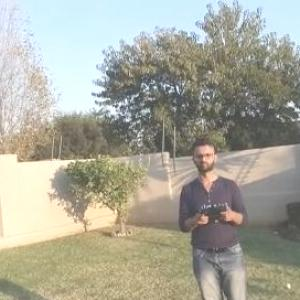follow: (172, 130, 254, 299)
